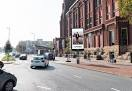board: (70, 26, 86, 59)
